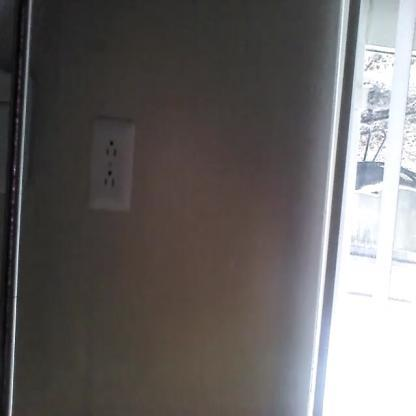OUTLET: (87, 116, 138, 212)
